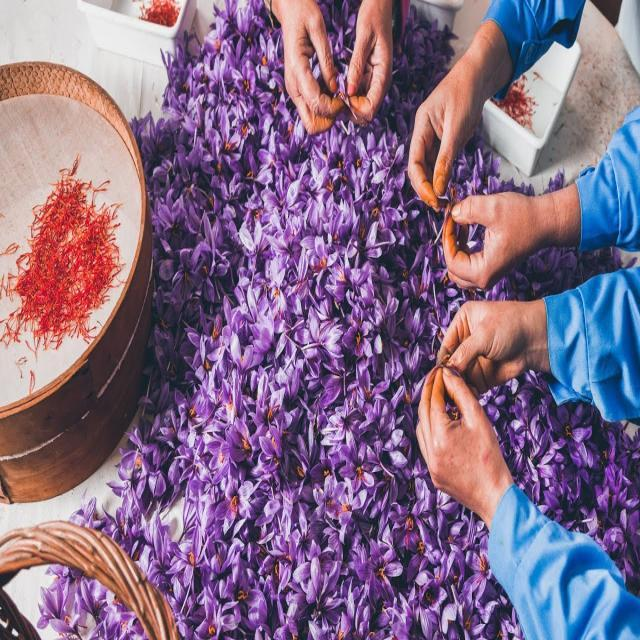Flower: (145, 48, 621, 640), (158, 256, 415, 526), (182, 547, 326, 633), (227, 300, 344, 382), (490, 388, 581, 468), (201, 100, 272, 198), (217, 396, 318, 461), (370, 558, 485, 614), (306, 142, 389, 214)
